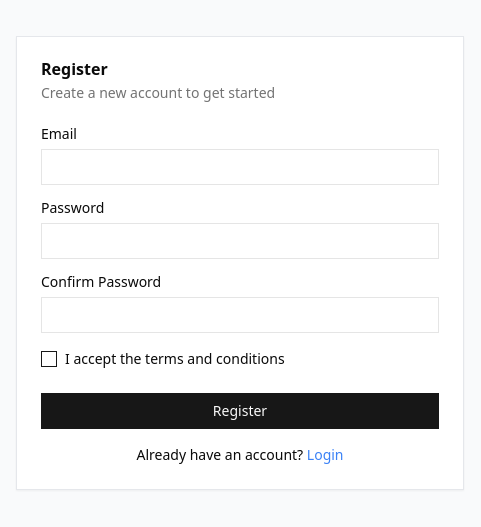
Test: RegisterPage › should show validation error when password is too short
Type "test@example.com" into the field labelled "Email".
click(240, 167); type("test@example.com")  # box x1=41 y1=149 x2=439 y2=185
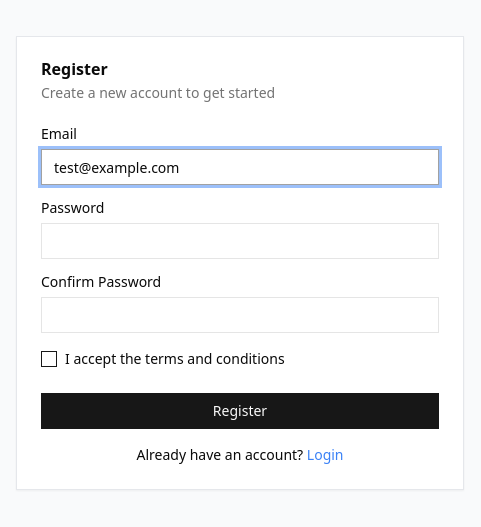
Type "short" into the password field labelled "Password".
click(240, 241); type("short")  # box x1=41 y1=223 x2=439 y2=259
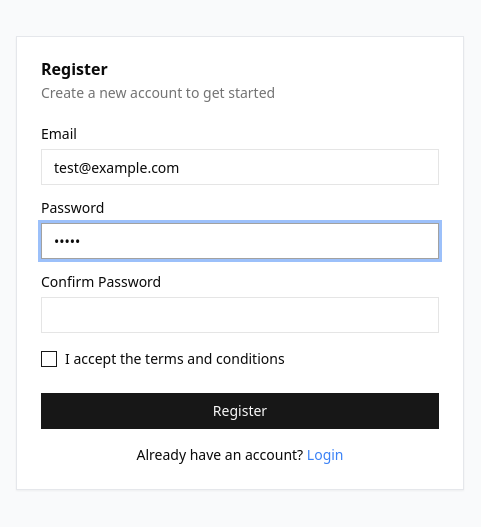
Type "short" into the password field labelled "Confirm Password".
click(240, 315); type("short")  # box x1=41 y1=297 x2=439 y2=333
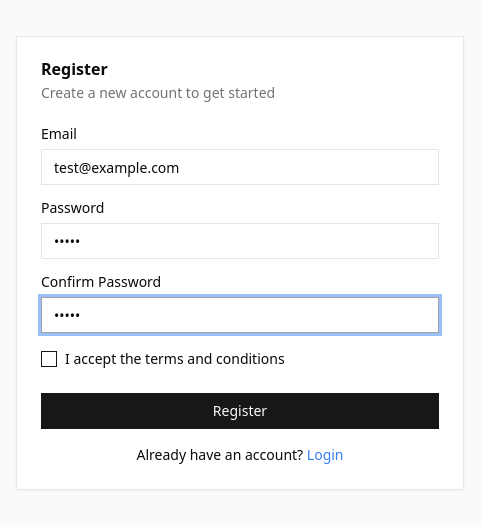
Click the checkbox named "accept the terms".
click(49, 359)  # box x1=41 y1=351 x2=57 y2=367
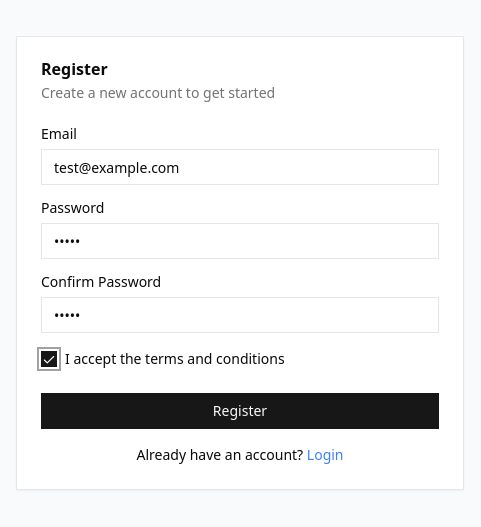
Click the button "Register".
click(240, 411)  # box x1=41 y1=393 x2=439 y2=429
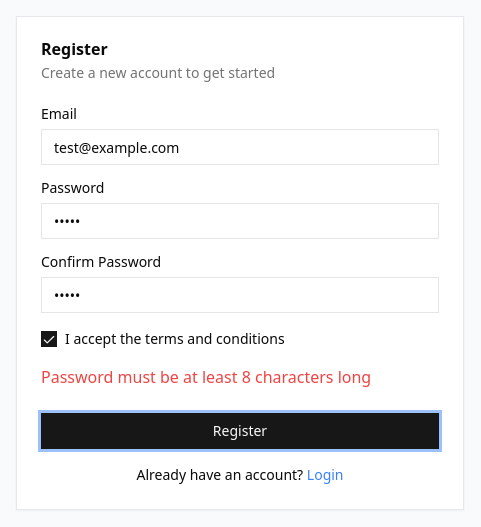
expect the text "Password must be at least 8 characters long" is shown: met, box x1=41 y1=366 x2=371 y2=388
